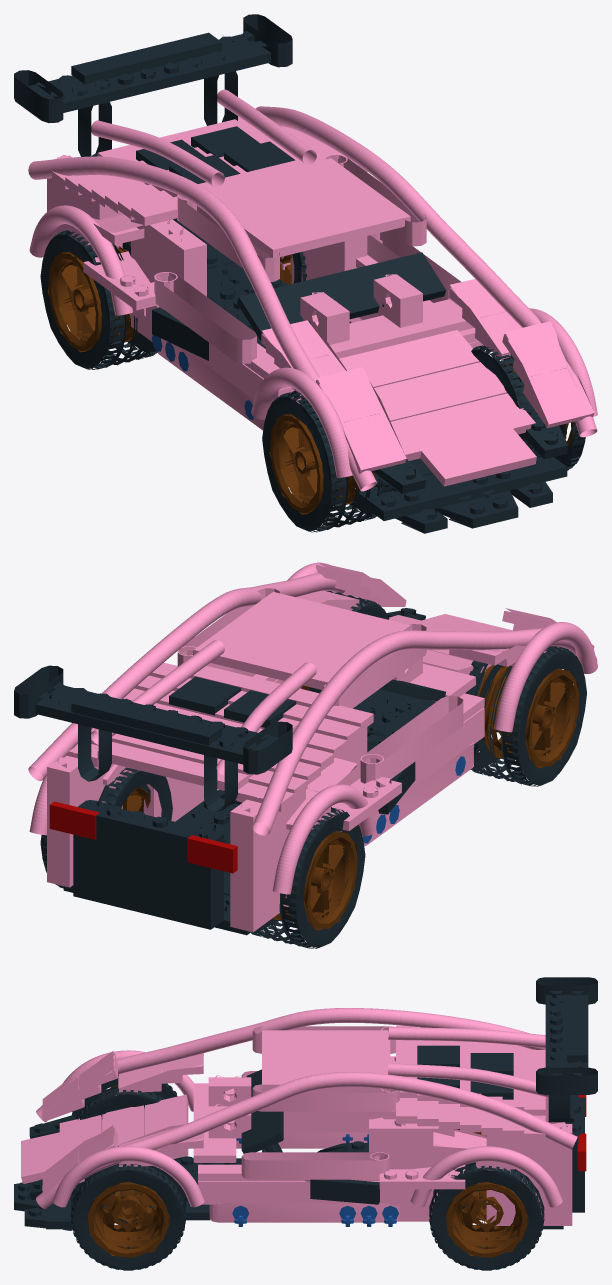
The model's file is pinklambo-lite.glb.
3 renders of one model, top to bottom at view 1: azimuth 30°, elevation 25°; view 2: azimuth 150°, elevation 25°; view 3: azimuth 270°, elevation 25°, orthographic. The views are drawn at different scales.
Parts seen in each view (by area): view 1: p456, p386, p0, p4, p383, p1, p34, p5, p394, p402, p457, p14 (+56 smaller); view 2: p0, p1, p4, p456, p451, p449, p450, p34, p5, p457, p434, p407 (+51 smaller); view 3: p2, p6, p3, p7, p209, p197, p202, p401, p383, p415, p456, p384 (+59 smaller).
Part boxes in pixels (x1=…): p456: x1=27, y1=31, x2=270, y2=112; p386: x1=502, y1=321, x2=594, y2=428; p0: x1=262, y1=390, x2=392, y2=532; p4: x1=40, y1=230, x2=157, y2=369; p383: x1=316, y1=367, x2=406, y2=473; p1: x1=269, y1=414, x2=375, y2=514; p34: x1=154, y1=272, x2=256, y2=363; p5: x1=47, y1=244, x2=139, y2=352; p394: x1=331, y1=252, x2=445, y2=318; p402: x1=260, y1=206, x2=410, y2=257; p457: x1=71, y1=32, x2=221, y2=84; p14: x1=357, y1=474, x2=475, y2=520; p0: x1=465, y1=646, x2=586, y2=786; p1: x1=478, y1=665, x2=579, y2=767; p4: x1=251, y1=807, x2=365, y2=948; p456: x1=35, y1=682, x2=278, y2=764; p451: x1=73, y1=800, x2=223, y2=872; p449: x1=73, y1=867, x2=223, y2=929; p450: x1=73, y1=839, x2=223, y2=900; p34: x1=360, y1=696, x2=463, y2=783; p5: x1=272, y1=831, x2=357, y2=930; p457: x1=71, y1=694, x2=221, y2=745; p434: x1=97, y1=742, x2=248, y2=790; p407: x1=193, y1=640, x2=336, y2=689; p2: x1=71, y1=1146, x2=185, y2=1270; p6: x1=429, y1=1162, x2=544, y2=1270; p3: x1=88, y1=1166, x2=169, y2=1257; p7: x1=446, y1=1170, x2=528, y2=1257; p209: x1=241, y1=1152, x2=389, y2=1179; p197: x1=209, y1=1203, x2=399, y2=1222; p202: x1=198, y1=1180, x2=326, y2=1204; p401: x1=252, y1=1084, x2=399, y2=1111; p383: x1=42, y1=1051, x2=117, y2=1121; p415: x1=369, y1=1117, x2=454, y2=1151; p456: x1=545, y1=991, x2=588, y2=1075; p384: x1=118, y1=1053, x2=203, y2=1092.
Bounding box in the file's own units: 11.6 × 10.09 × 27.3.
